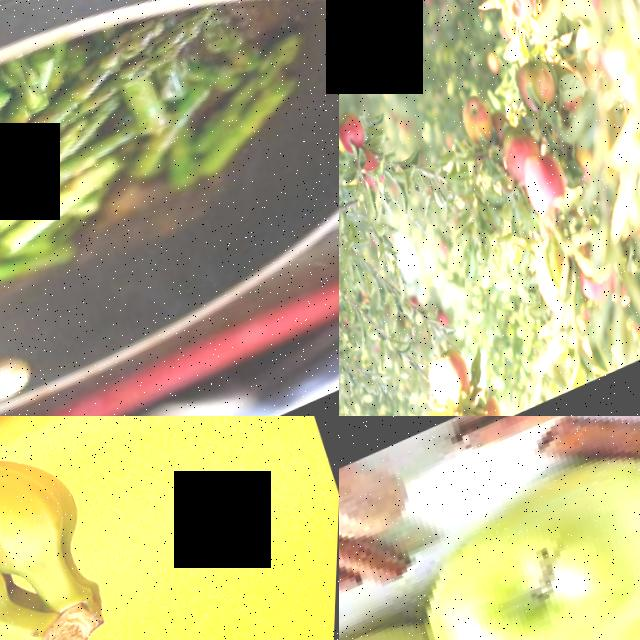apple: (389, 418, 640, 640), (511, 147, 578, 238), (421, 350, 482, 416), (592, 57, 640, 137), (510, 66, 568, 132), (447, 90, 503, 158), (565, 20, 612, 89), (566, 143, 611, 209), (574, 277, 628, 328), (492, 0, 553, 45), (351, 157, 394, 216), (339, 106, 377, 167), (465, 384, 513, 416), (435, 310, 461, 352), (432, 243, 458, 274)
banana: (0, 416, 167, 640)
